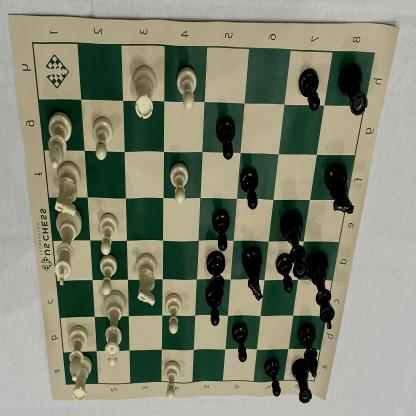black-bishop: (298, 324, 318, 378), (207, 253, 227, 307)
black-knight: (306, 254, 336, 332), (324, 161, 354, 217), (240, 244, 264, 302)
black-pawn: (215, 115, 237, 162), (299, 67, 320, 114), (240, 166, 260, 212), (210, 208, 230, 251), (205, 285, 223, 329), (275, 252, 293, 295), (231, 321, 249, 364), (264, 357, 281, 398)
black-queen: (284, 210, 305, 279)
black-rook: (339, 61, 369, 119), (291, 356, 313, 405)
white-bishop: (46, 111, 72, 170), (66, 324, 89, 383)
white-king: (53, 205, 83, 287)
white-knight: (134, 252, 158, 307)
white-pawn: (175, 66, 199, 110), (98, 211, 120, 257), (170, 162, 189, 210), (99, 254, 119, 296), (94, 118, 113, 160), (165, 292, 183, 335), (163, 360, 181, 400), (105, 328, 122, 368)
white-queen: (100, 290, 128, 358)
white-rook: (131, 64, 158, 121), (72, 354, 92, 402)
